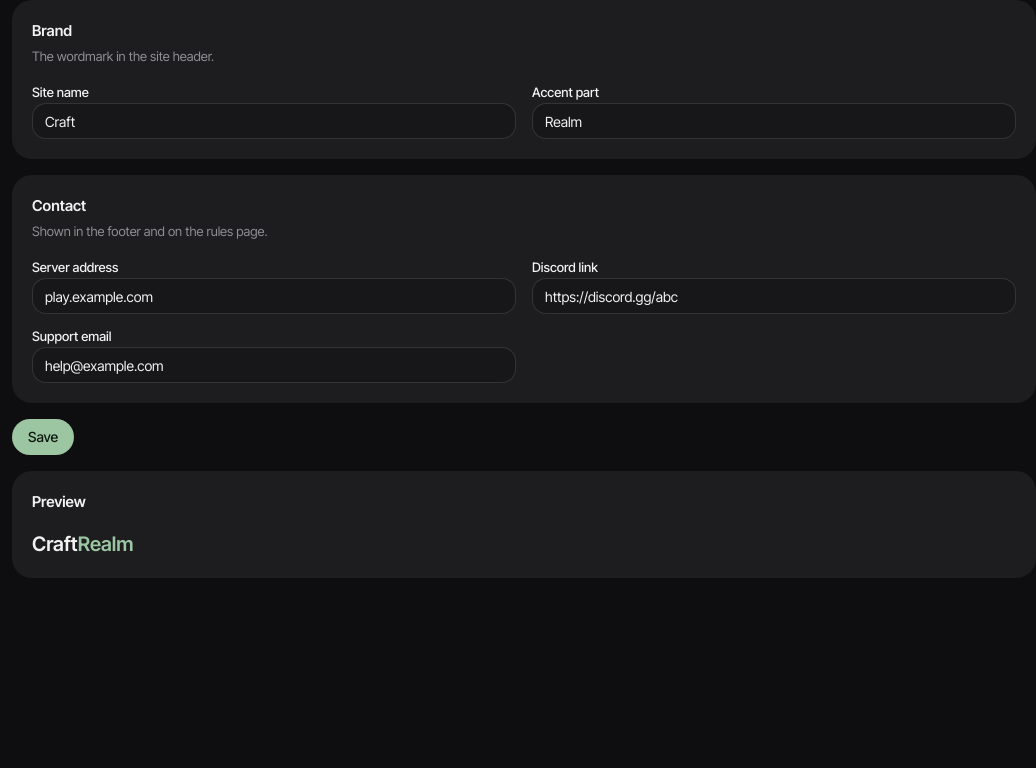
it: SettingsForm › shows a refused save other than 409 as an error toast and keeps the form quiet
Replace the text in the field labelled "Site name" with "Block": (274, 121) [32, 103, 516, 139]
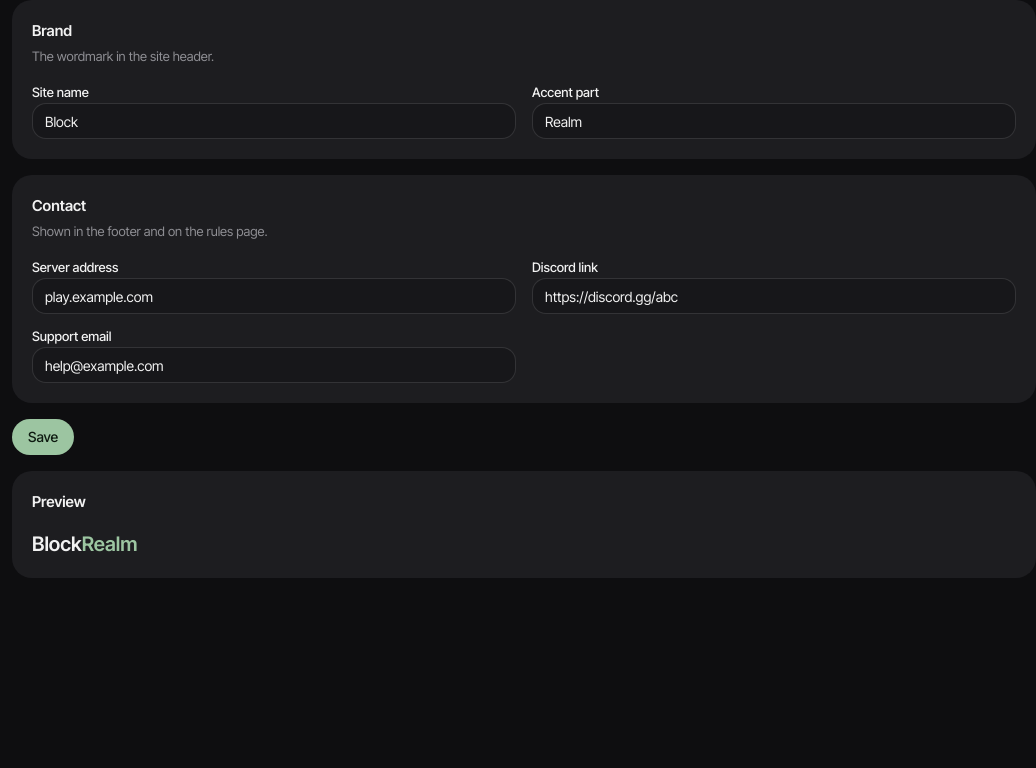
Click the button "Save": (43, 437) [12, 419, 74, 455]
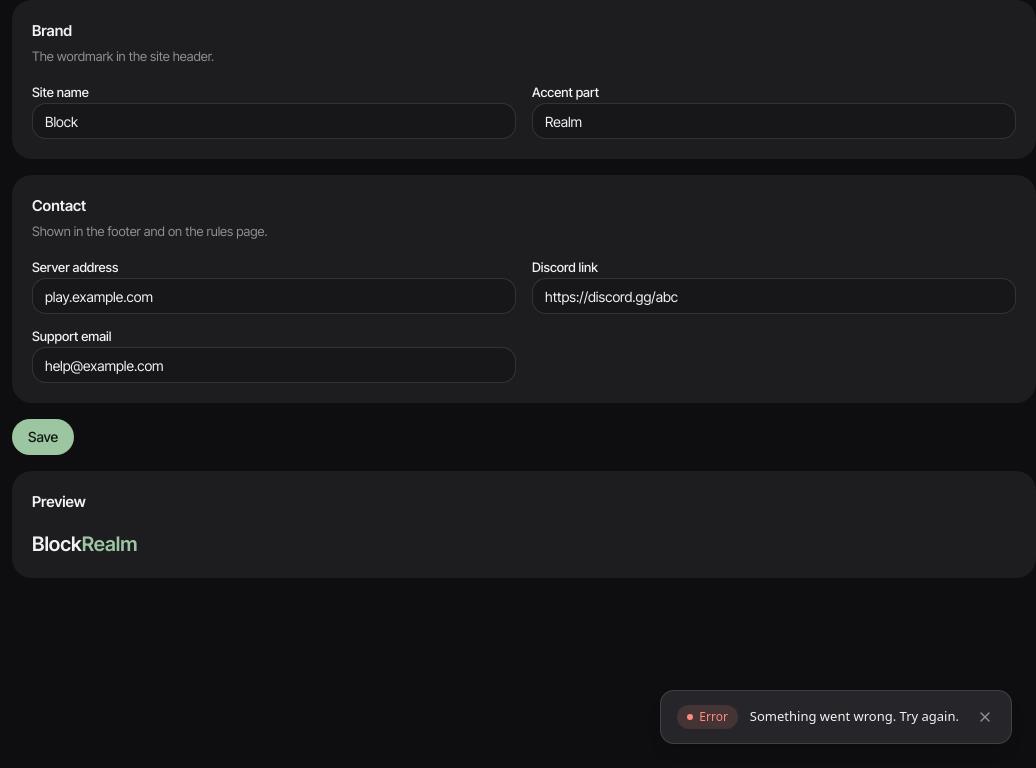
Result: the number of messages is 1 at [660, 690, 1012, 744]
